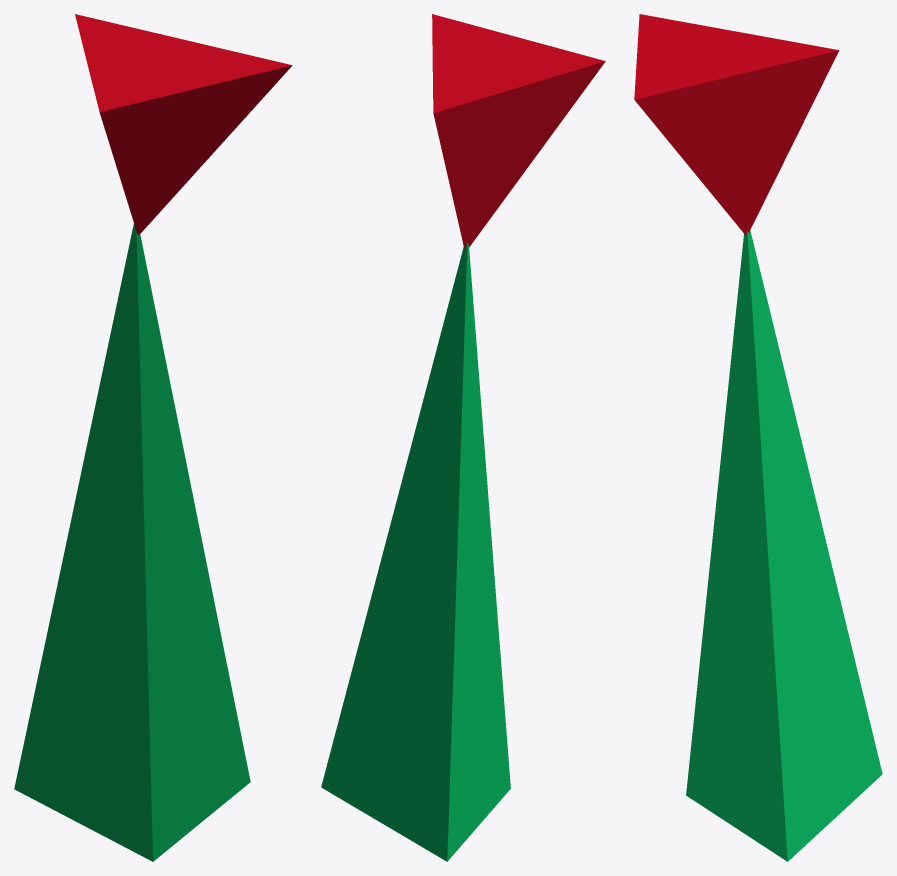
The model's file is Tulip_Red.fbx.
3 renders of one model, left to right at view 1: azimuth 30°, elevation 25°; view 2: azimuth 150°, elevation 25°; view 3: azimuth 270°, elevation 25°, orthographic. The views are drawn at different scales.
Visible parts, largest first — view 1: Blossom, Branch; view 2: Blossom, Branch; view 3: Blossom, Branch.
Part boxes in pixels (x1=…): Blossom: x1=14, y1=224, x2=250, y2=861; Branch: x1=75, y1=14, x2=292, y2=234; Blossom: x1=321, y1=241, x2=510, y2=861; Branch: x1=432, y1=14, x2=605, y2=249; Blossom: x1=686, y1=230, x2=882, y2=861; Branch: x1=634, y1=14, x2=839, y2=235.
Bounding box in the file's own units: 26.96 × 88.63 × 26.68.
